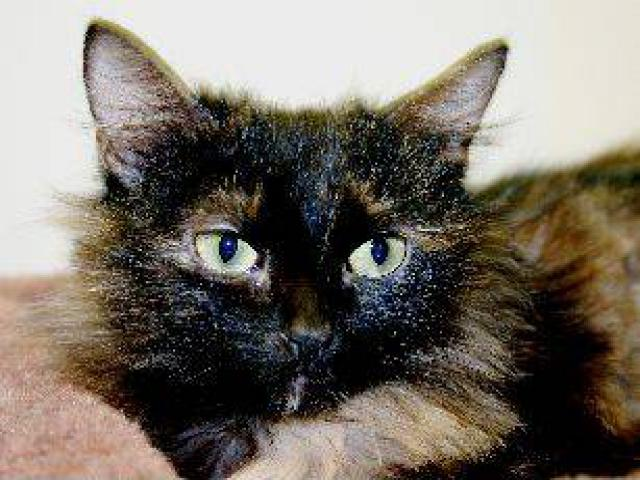cat: (48, 20, 635, 478)
